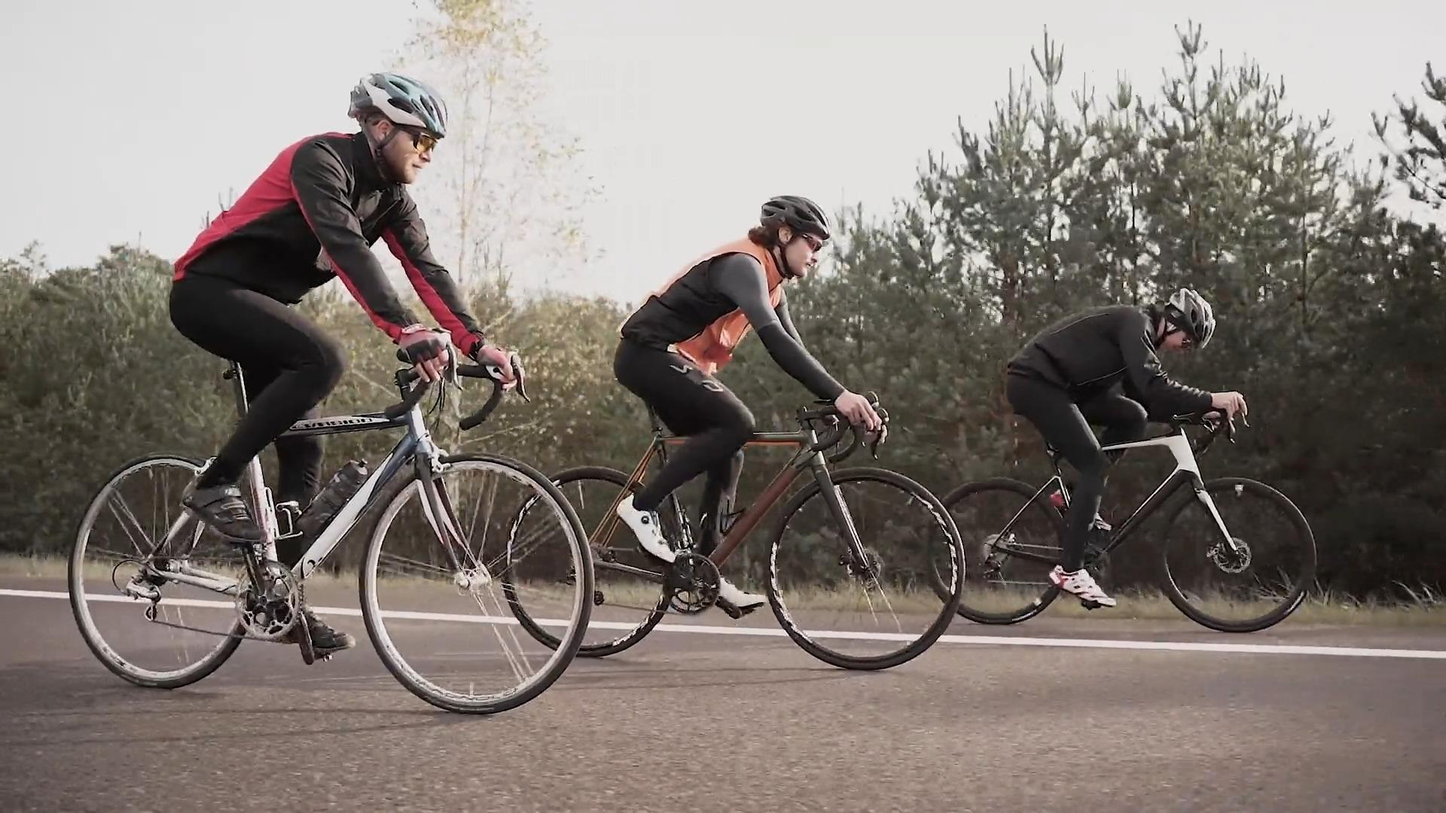bicyclist: (65, 71, 594, 718), (499, 194, 967, 673), (925, 286, 1316, 633)
helmet: (348, 72, 449, 189), (760, 195, 831, 280), (1154, 287, 1216, 353)
